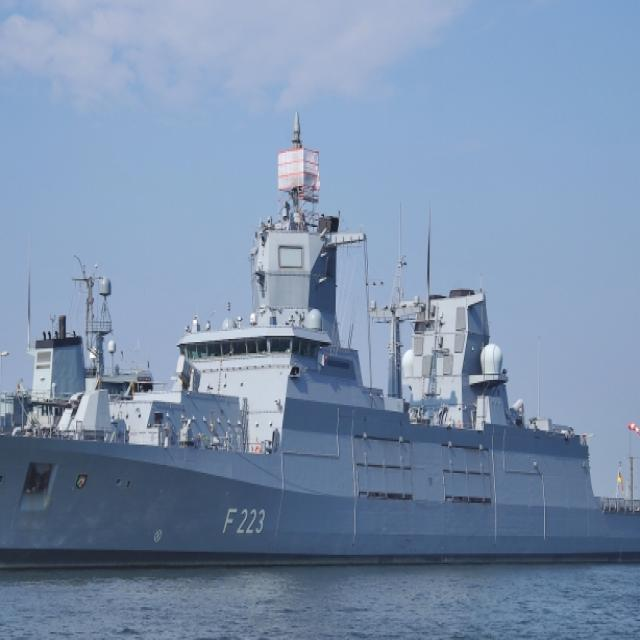Fragata: (1, 91, 640, 570)
